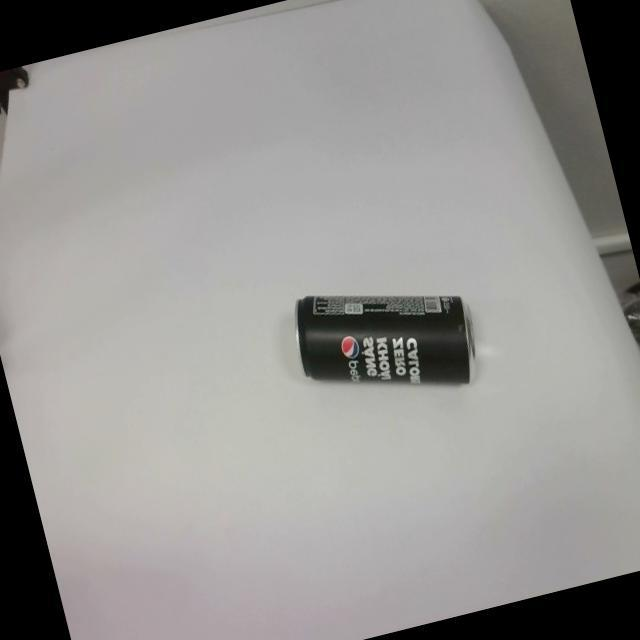debris: (283, 258, 482, 422)
